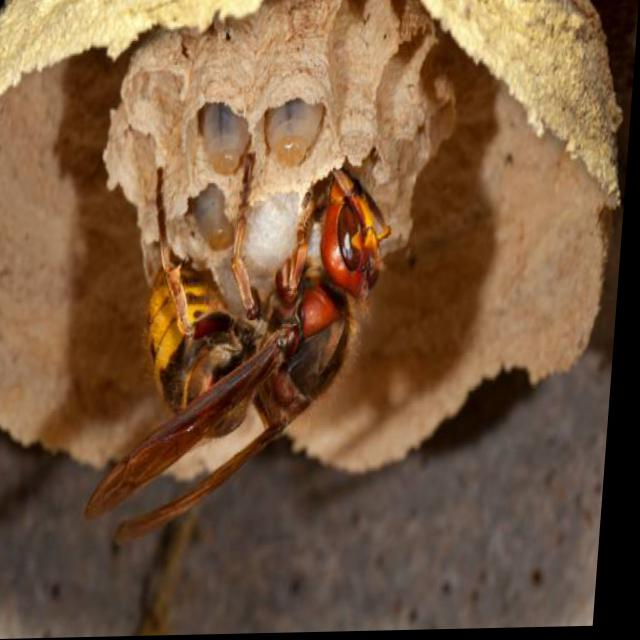Vespa Crabro: (69, 129, 419, 539)
